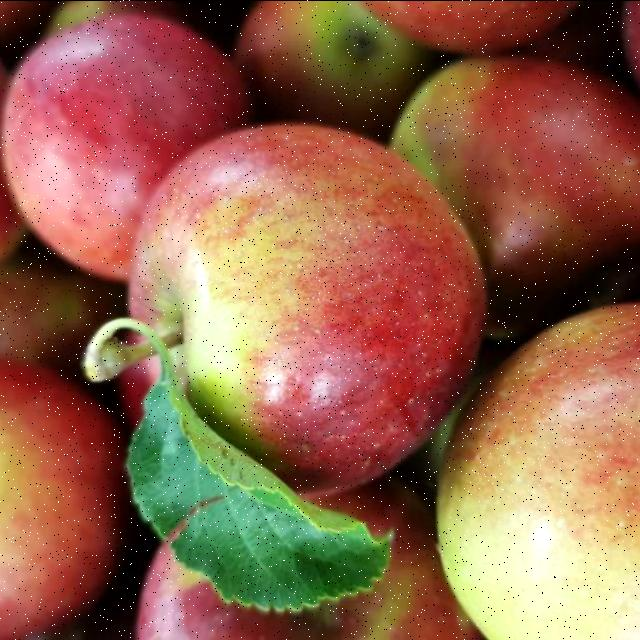HEALTHY: (86, 111, 488, 498)
